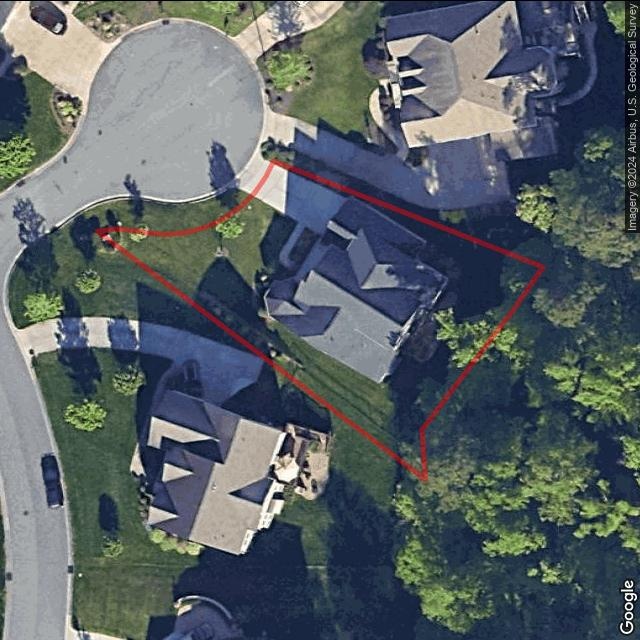Driveway: (250, 162, 348, 237)
Extra-Driveway: (229, 147, 274, 195)
Extra-Lawn: (81, 185, 251, 234)
House: (265, 194, 452, 385)
Lawn: (98, 158, 546, 479)
Other: (253, 212, 297, 320), (400, 309, 443, 364), (289, 225, 320, 266)
Sidewalk: (278, 221, 306, 272)
